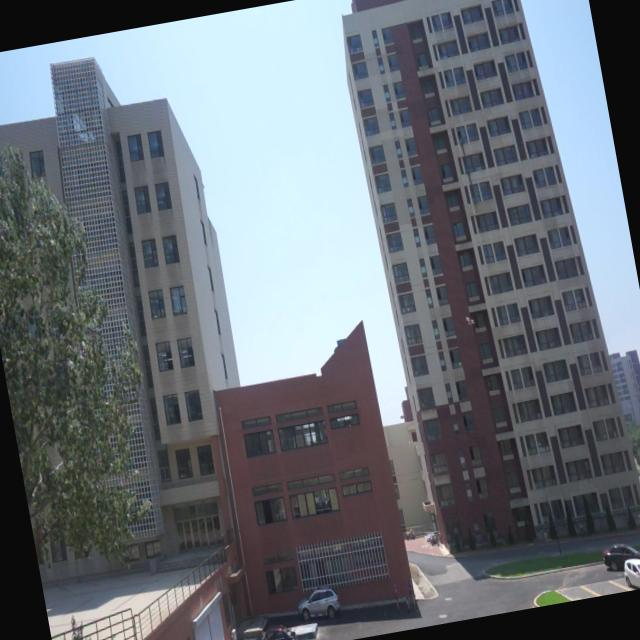drone: (463, 312, 477, 328)
